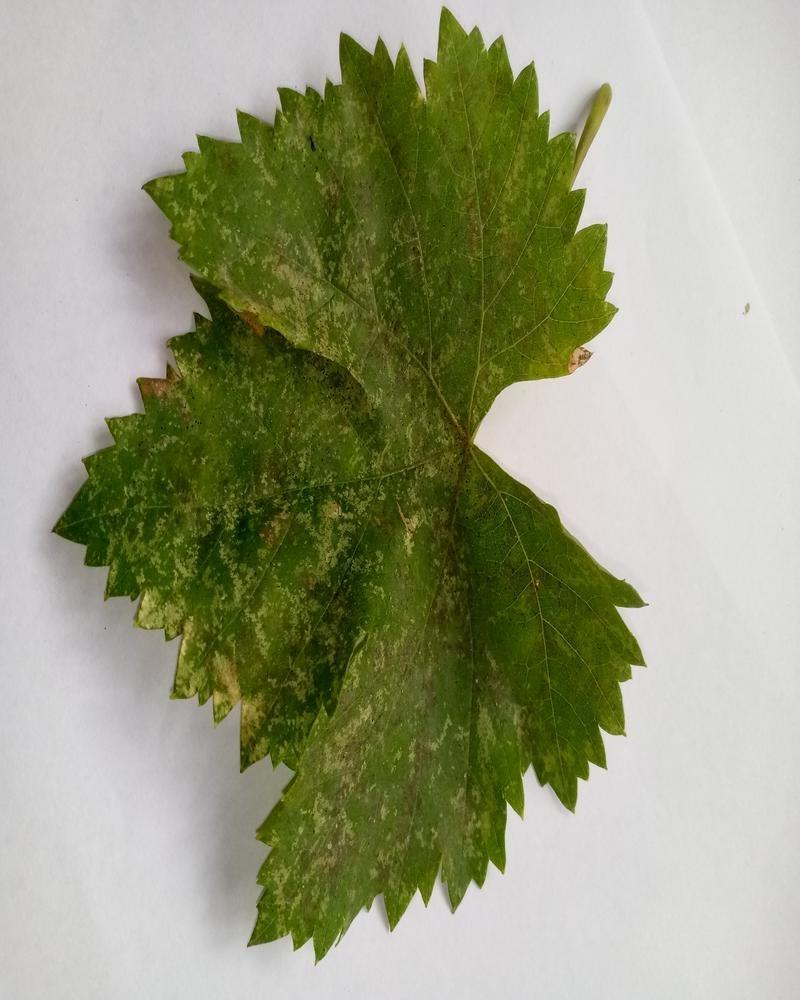Powdery-Mildew: (269, 645, 457, 938), (131, 560, 308, 734), (202, 200, 378, 356), (239, 90, 417, 193), (431, 37, 547, 195), (354, 354, 455, 521), (247, 469, 364, 607), (522, 303, 585, 366), (146, 368, 209, 431)
